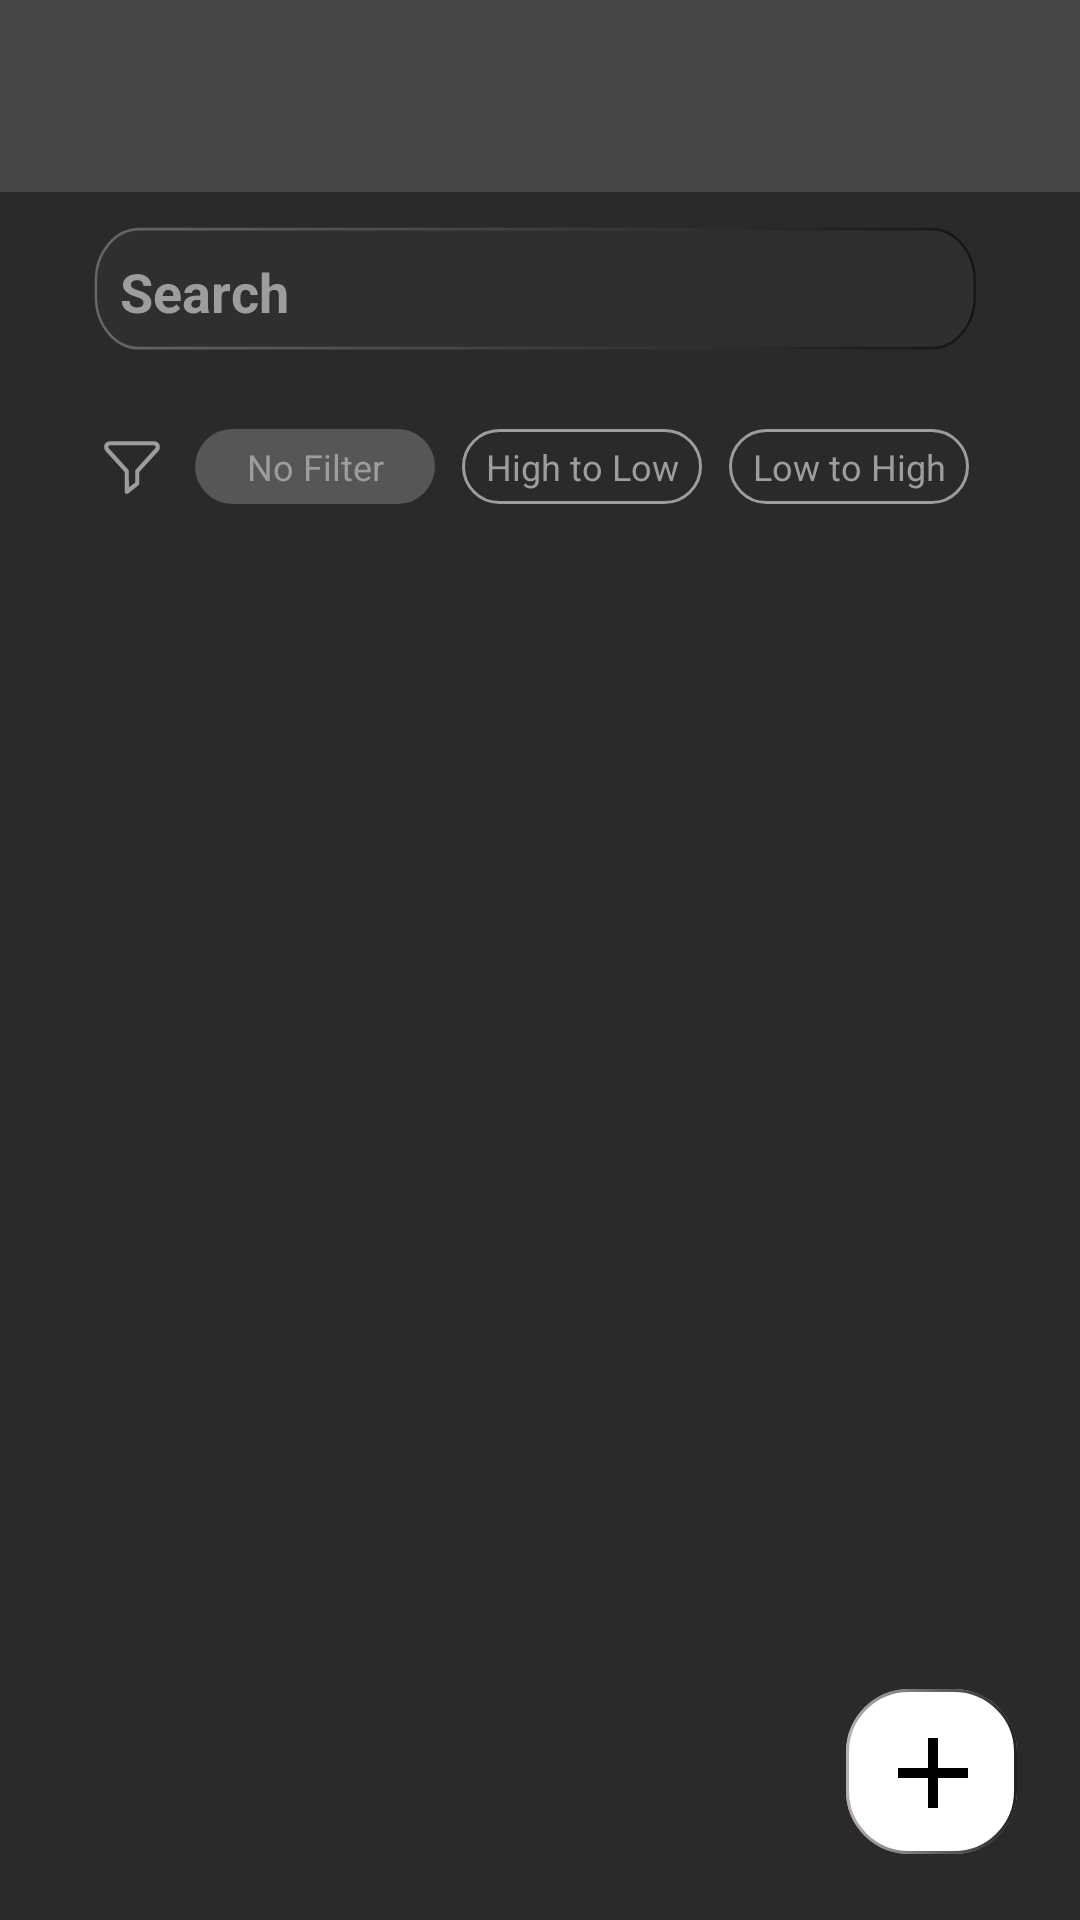

Icons on this 1080 × 1920 Android screen, each with its box as (x1, y1, x2, y2):
Add new note: (846, 1689, 1017, 1854)
